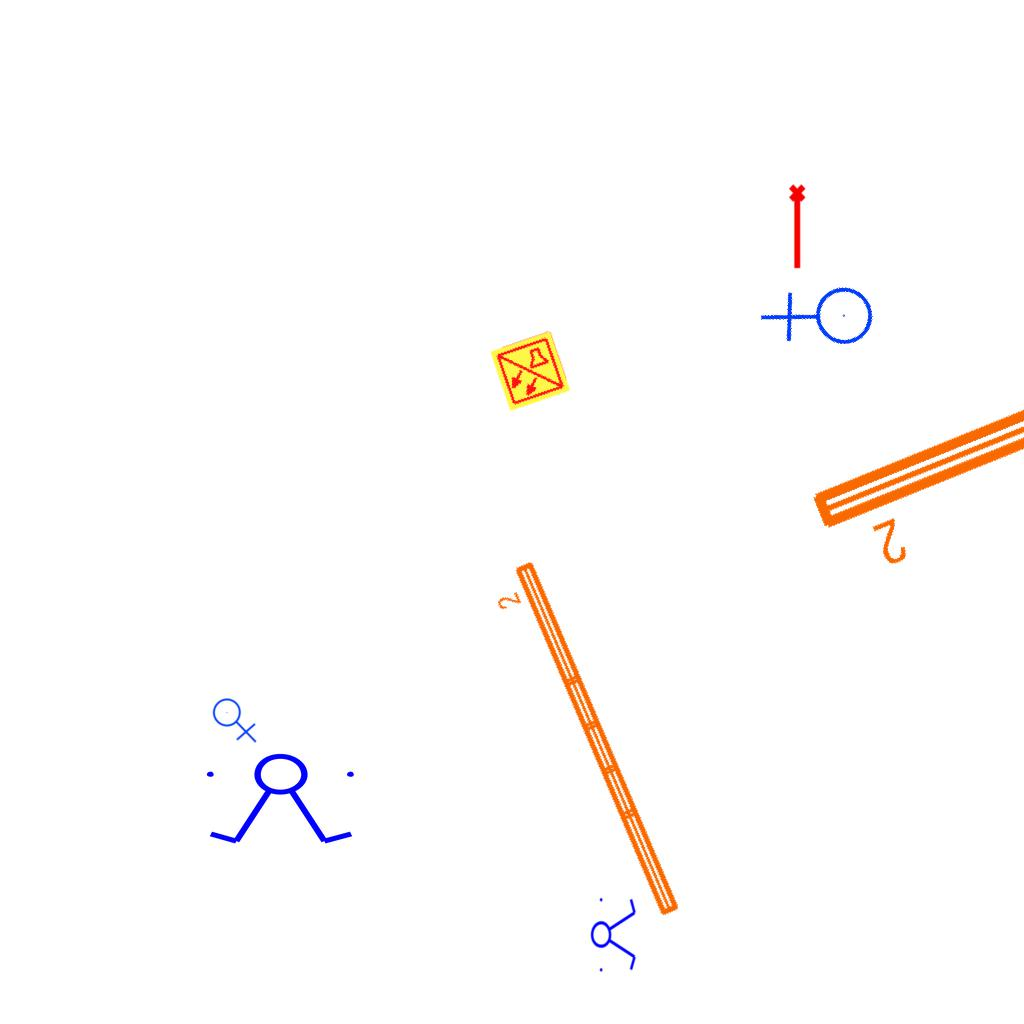ASR_Ansaugoeffnung: (787, 183, 810, 271)
Ambulanz_Pendelleuchte_LED: (799, 197, 1024, 591), (484, 554, 687, 934)
Elektroanschluss_allgemein_230V_Geraeteanschlussdose_230V: (755, 251, 892, 389), (212, 694, 259, 743)
OKW_Multisensormelder_(Kombination_optischer_Rauch-Kahlenmonoxid_Waerme-Melder): (488, 329, 572, 413)
Serienschalter: (198, 752, 366, 848), (590, 892, 638, 976)
